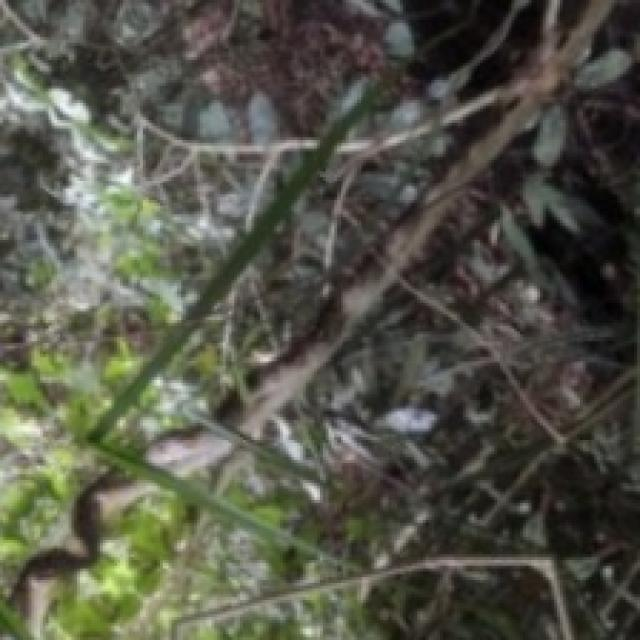reticulated python: (220, 0, 613, 439), (12, 472, 151, 636), (145, 429, 234, 478)
